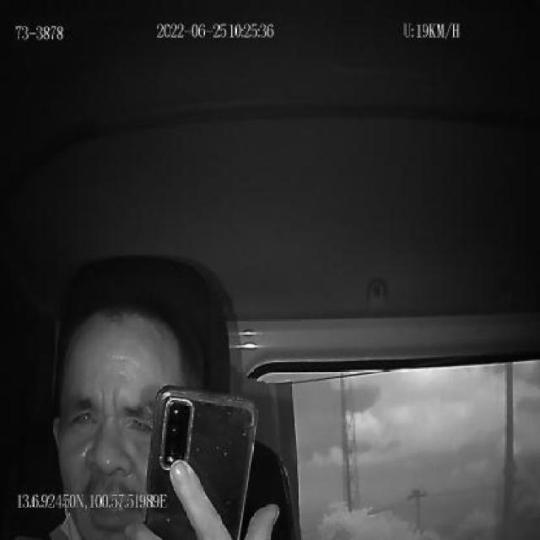phone: (144, 381, 258, 540)
